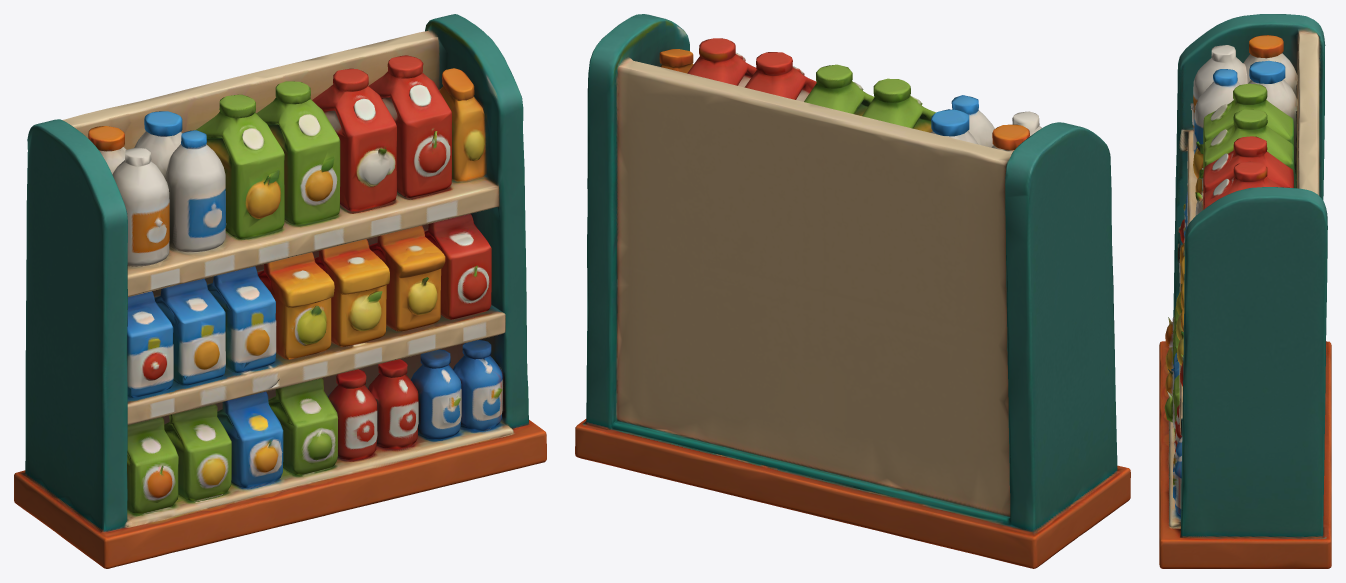
File: DisplayShelf.fbx
3 renders of one model, left to right at view 1: azimuth 30°, elevation 25°; view 2: azimuth 150°, elevation 25°; view 3: azimuth 270°, elevation 25°, orthographic. The views are drawn at different scales.
Visible parts, largest first — view 1: tripo_node_e43c6e84-9ae0-4bc3-bc47-93754efb0bd6; view 2: tripo_node_e43c6e84-9ae0-4bc3-bc47-93754efb0bd6; view 3: tripo_node_e43c6e84-9ae0-4bc3-bc47-93754efb0bd6.
Part boxes in pixels (box(x1,y1,x2,y2)): tripo_node_e43c6e84-9ae0-4bc3-bc47-93754efb0bd6: box(14, 14, 546, 568); tripo_node_e43c6e84-9ae0-4bc3-bc47-93754efb0bd6: box(575, 14, 1130, 568); tripo_node_e43c6e84-9ae0-4bc3-bc47-93754efb0bd6: box(1159, 14, 1331, 568).
Bounding box in the file's own units: 97.9 × 83.72 × 35.47.
1 material, 1 textured.
